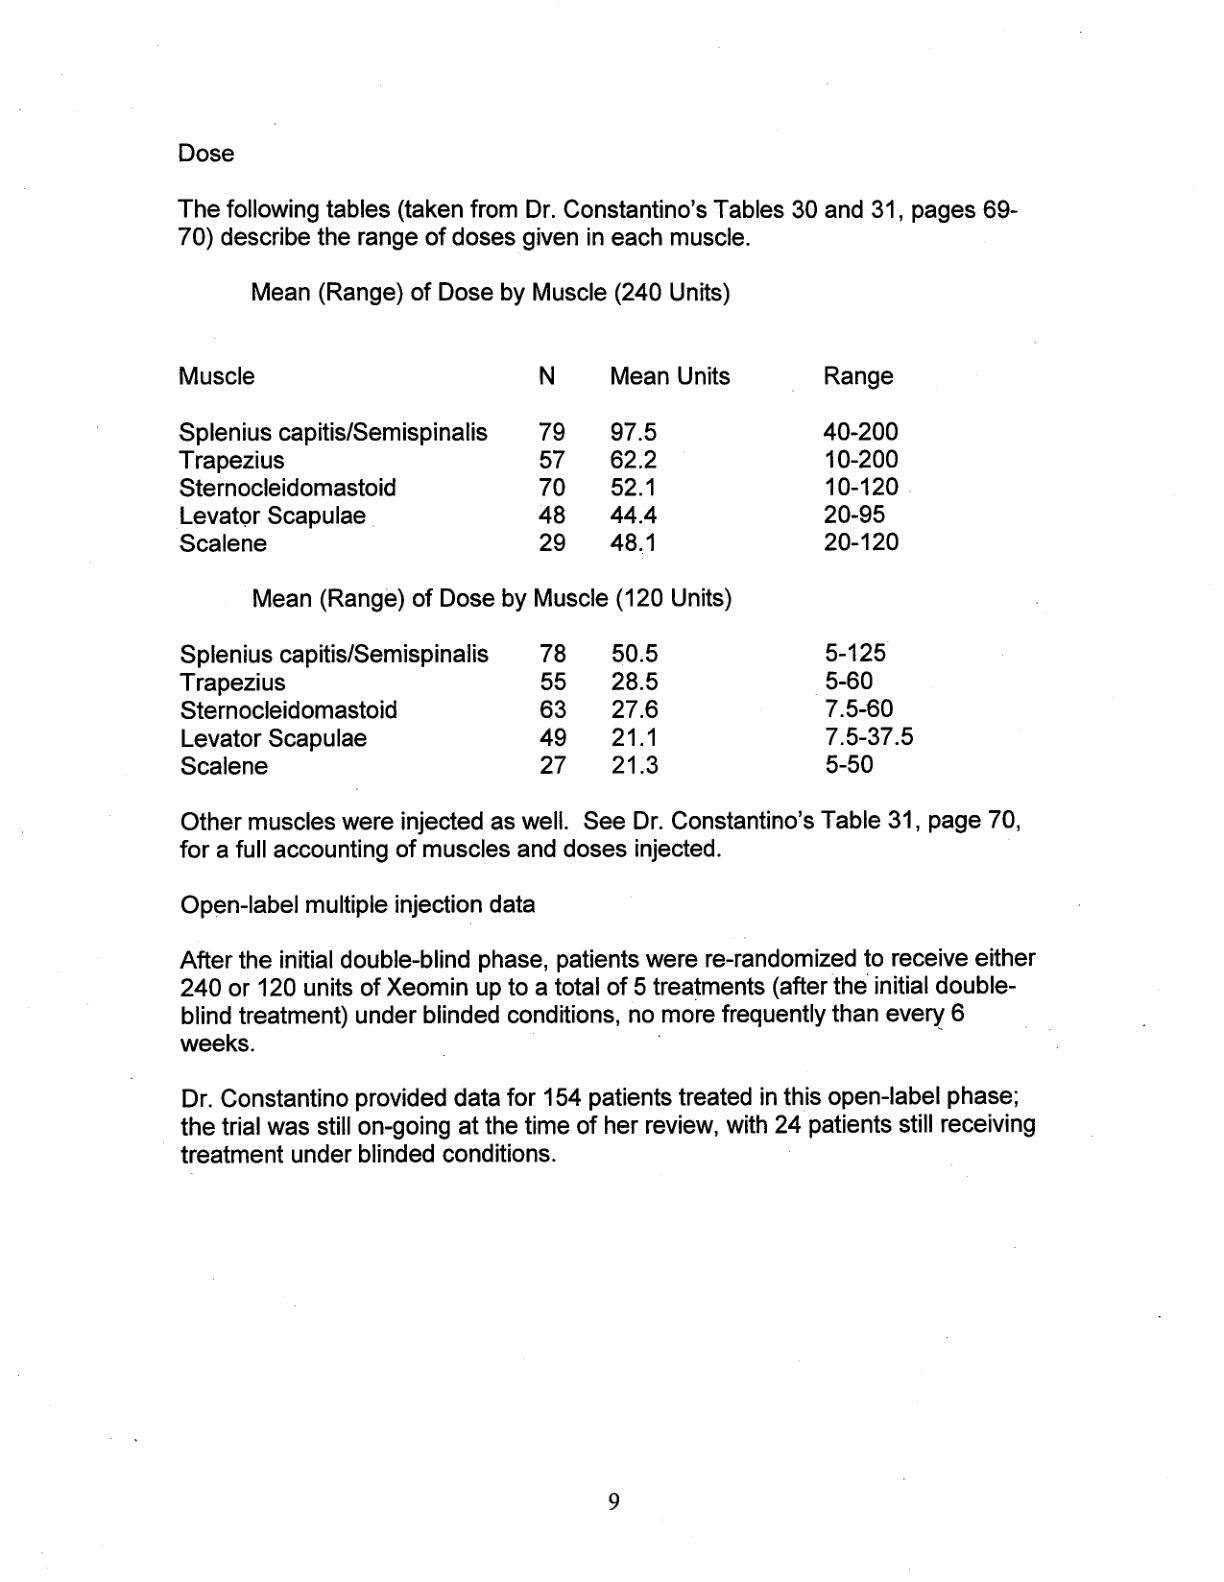nolines: (175, 360, 905, 559), (177, 639, 918, 777)
